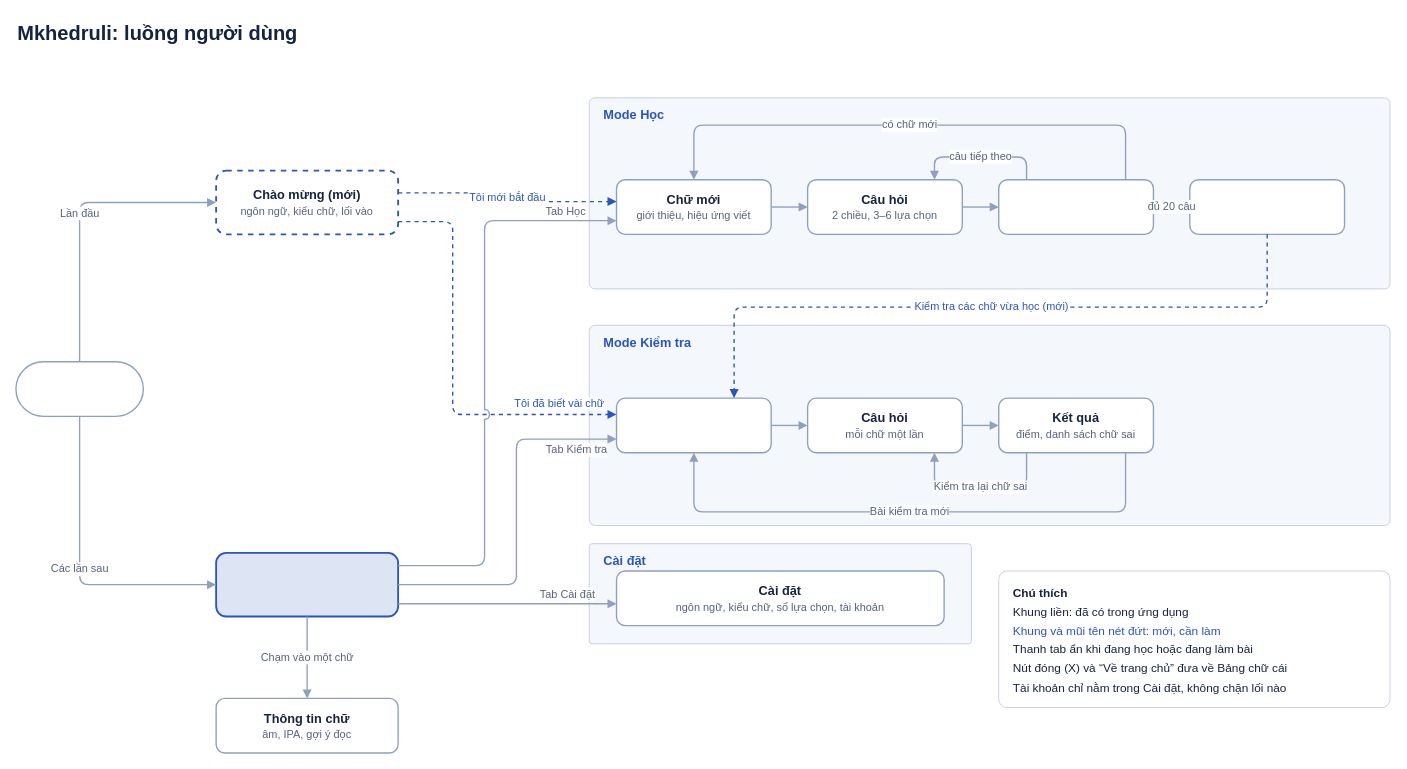
Image size: 1407x769. Some labels were removed from this diagram. Here are the shapes that lost their labels. From the top down, the centre of each, then its label:
(x=1076, y=207): Phản hồi đúng: tự sang câu sau
(x=1267, y=207): Xong buổi sau 20 câu
(x=79, y=389): Mở app
(x=693, y=425): Thiết lập bài chọn chữ, kiểu câu hỏi
(x=307, y=584): Bảng chữ cái trang chủ, tiến độ 33 chữ
